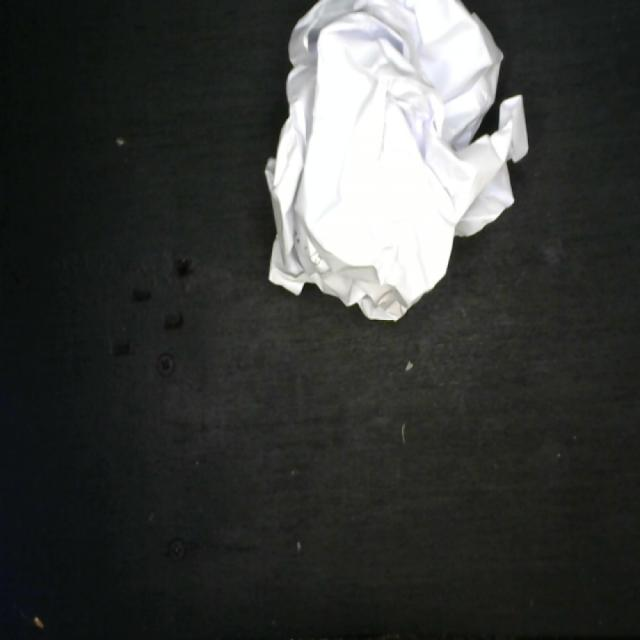biodegradable: (258, 0, 534, 328)
